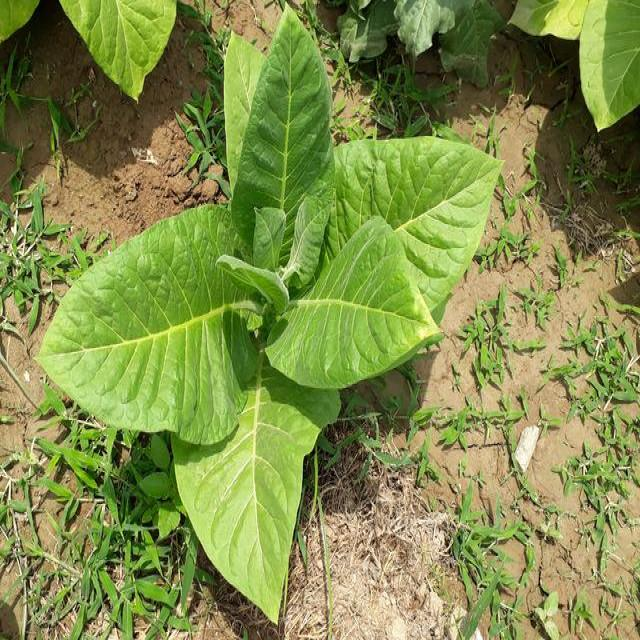crop: (74, 36, 493, 618), (510, 5, 640, 114), (54, 0, 182, 92)
